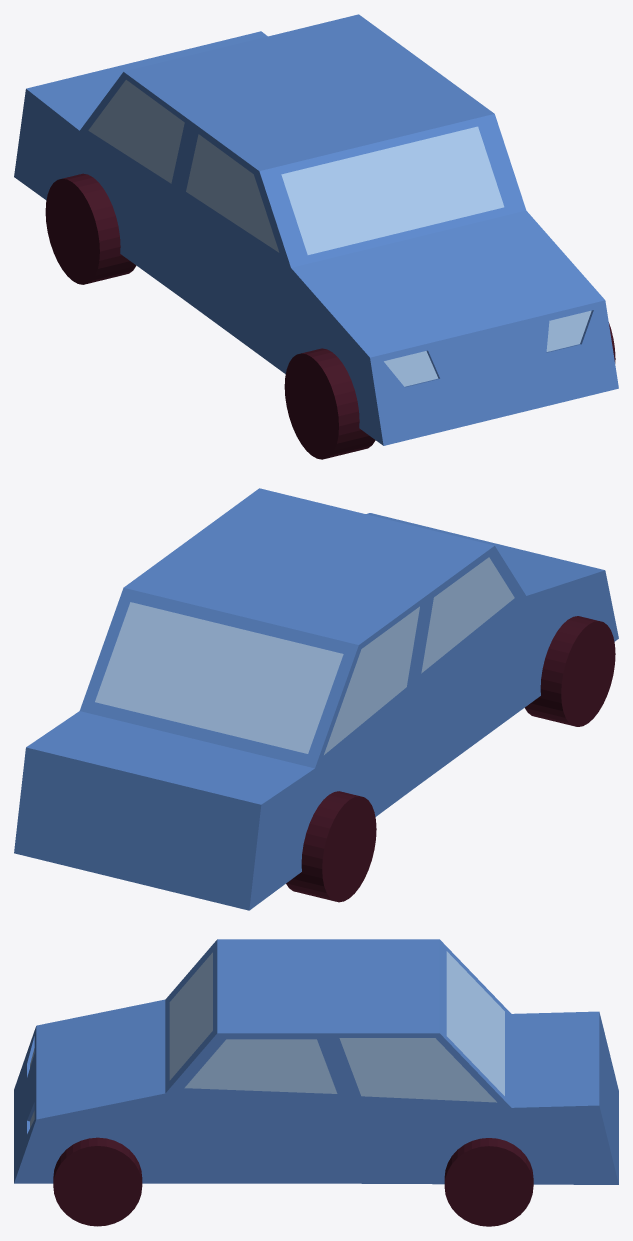
The model's file is CAR_P1.fbx.
3 views of the same model, one above another, from view 1: azimuth 30°, elevation 25°; view 2: azimuth 150°, elevation 25°; view 3: azimuth 270°, elevation 25° (orthographic). The views are drawn at different scales.
Visible parts, largest first — view 1: Cube, wheelFL.001, wheelRL.001; view 2: Cube, wheelFL.001, wheelRL.001; view 3: Cube, wheelFL, wheelRL.
Boxes of the visible parts, x1,y1,x2,y2 form: Cube: [14, 14, 618, 445]; wheelFL.001: [284, 348, 375, 459]; wheelRL.001: [45, 173, 136, 284]; Cube: [14, 488, 618, 910]; wheelFL.001: [525, 616, 615, 726]; wheelRL.001: [286, 791, 376, 902]; Cube: [14, 939, 618, 1184]; wheelFL: [53, 1137, 142, 1226]; wheelRL: [444, 1138, 533, 1226].
Size of the model in its own units: 235 by 184 by 544.
